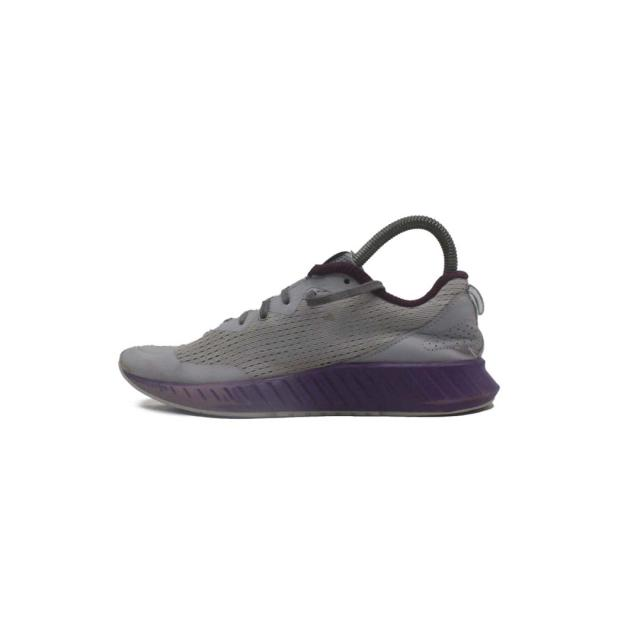heel: (450, 276, 489, 361)
midsole: (123, 358, 499, 420)
uppersole: (119, 249, 454, 388)
